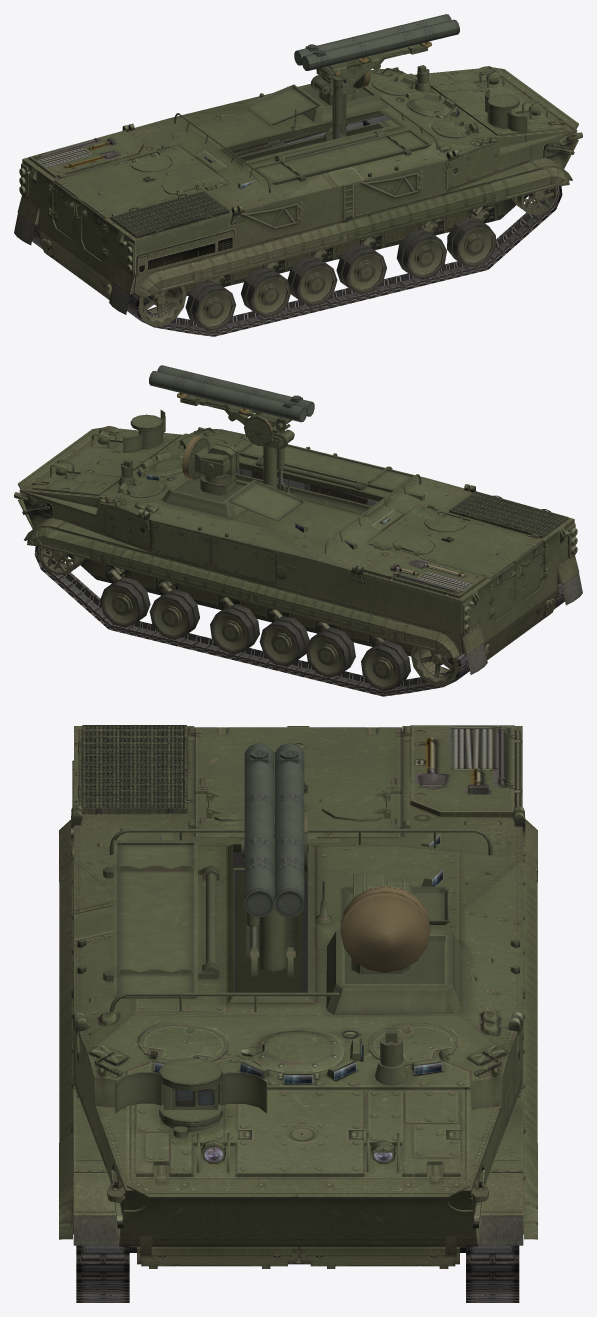
Rendered from 9p157_khrizantema-s.glb.
The picture shows the model from 3 angles, top to bottom: view 1: azimuth 30°, elevation 25°; view 2: azimuth 150°, elevation 25°; view 3: azimuth 270°, elevation 25°; orthographic projection. The views are drawn at different scales.
Visible parts, largest first — view 1: hull.001, hull-2, extras, track.001, hull-3, hatch7, hatch6, weapon.001, mount2, mount.001, wheel15, weapon2.001 (+21 smaller); view 2: hull.001, hull-2, extras, track2, hull-3, hatch7, hatch6, sensor, weapon2.001, mount.001, wheel16, mount2 (+20 smaller); view 3: hull.001, hull-3, extras, hull-2, hatch7, sensor2, sensor, hatch6, weapon2.001, weapon.001, hatch.001, track.001 (+6 smaller).
Boxes of the visible parts, x1,y1,x2,y2 form: hull.001: [17, 67, 577, 305]; hull-2: [135, 166, 570, 298]; extras: [174, 84, 438, 192]; track.001: [127, 186, 562, 336]; hull-3: [14, 66, 582, 314]; hatch7: [54, 145, 199, 197]; hatch6: [83, 166, 228, 218]; weapon.001: [302, 19, 459, 70]; mount2: [311, 61, 354, 141]; mount.001: [316, 41, 431, 87]; wheel15: [139, 286, 186, 326]; weapon2.001: [294, 14, 451, 65]; hull.001: [19, 427, 579, 665]; hull-2: [26, 526, 460, 658]; extras: [162, 435, 421, 554]; track2: [34, 542, 469, 696]; hull-3: [14, 426, 582, 674]; hatch7: [368, 526, 513, 578]; hatch6: [397, 505, 542, 557]; sensor: [182, 435, 239, 495]; weapon2.001: [149, 371, 305, 422]; mount.001: [177, 393, 291, 447]; wheel16: [410, 646, 458, 686]; mount2: [259, 412, 294, 491]; hull.001: [71, 725, 525, 1264]; hull-3: [71, 824, 525, 1268]; extras: [103, 829, 492, 1014]; hull-2: [59, 819, 537, 1239]; hatch7: [309, 727, 403, 836]; sensor2: [115, 1057, 267, 1138]; sensor: [340, 873, 430, 973]; hatch6: [194, 727, 287, 836]; weapon2.001: [274, 743, 304, 917]; weapon.001: [244, 743, 273, 917]; hatch.001: [241, 1030, 344, 1073]; track.001: [76, 1245, 129, 1302].
Bounding box in the file's own units: 7.15 × 3.09 × 3.13.
7 materials, 7 textured.
